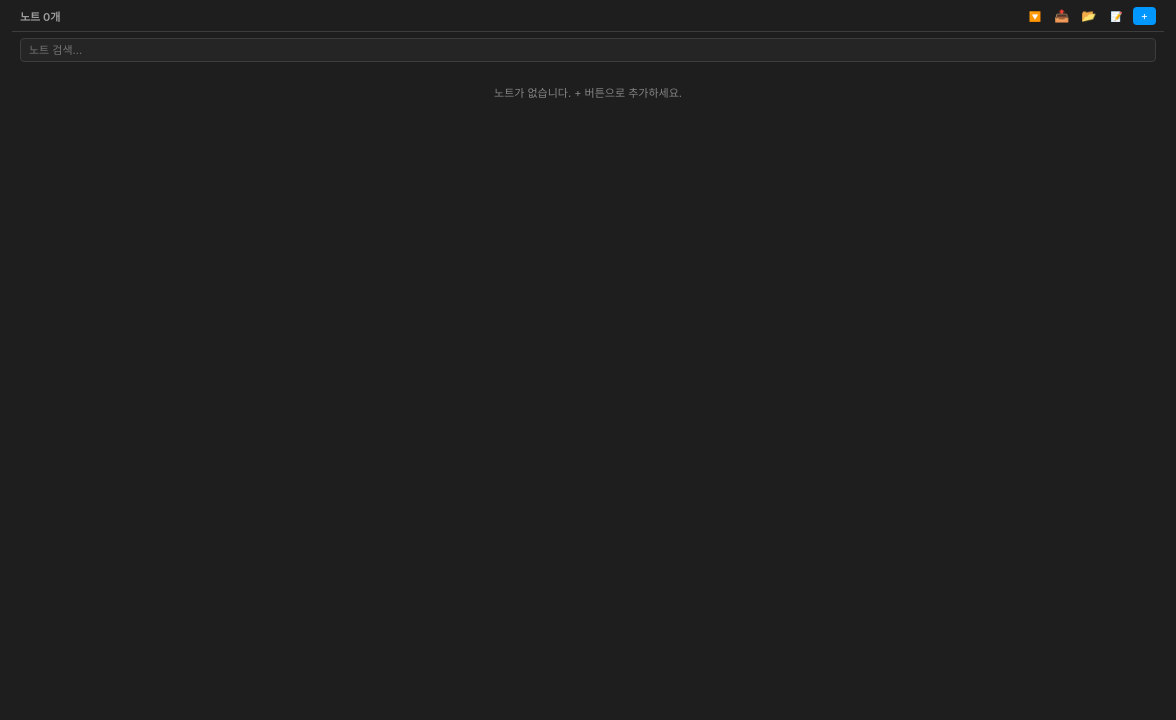
Test: NotesPanel › 에디터에서 목록으로 돌아오면 노트가 표시된다
Click the button titled "새 노트".
click(1144, 16)  # box x1=1133 y1=6 x2=1156 y2=24
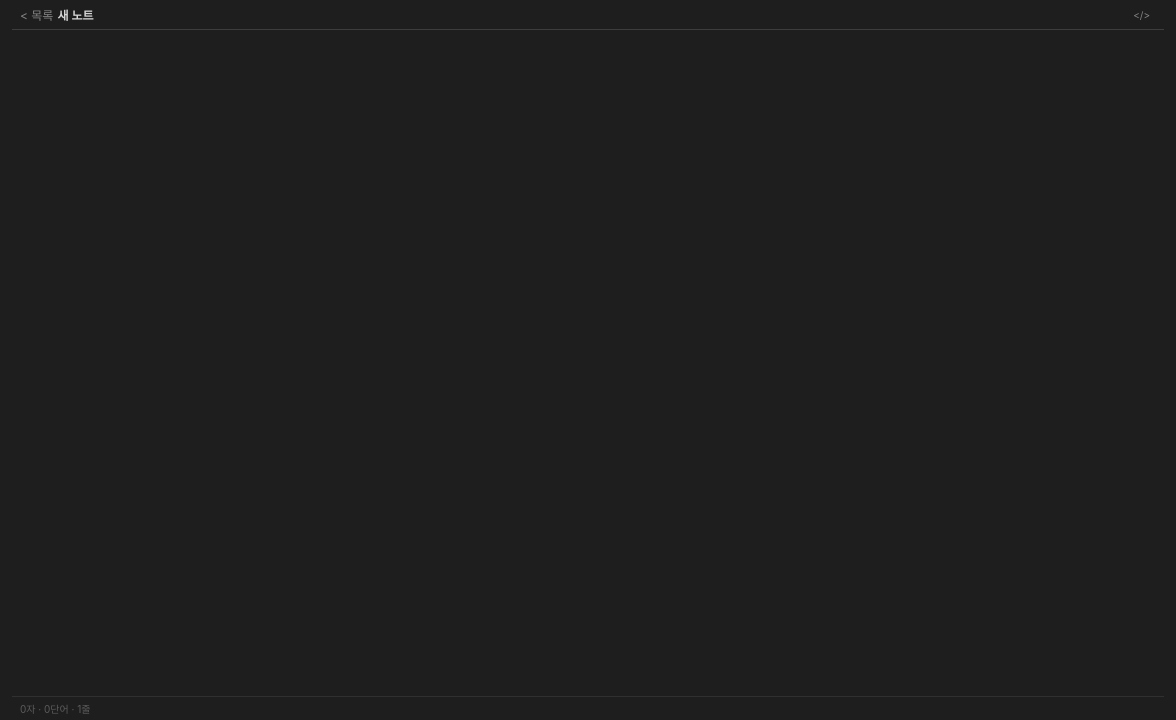
Replace the text in the field showing "새 노트" with "테스트 노트" at [590, 14], box x1=57 y1=7 x2=1123 y2=22
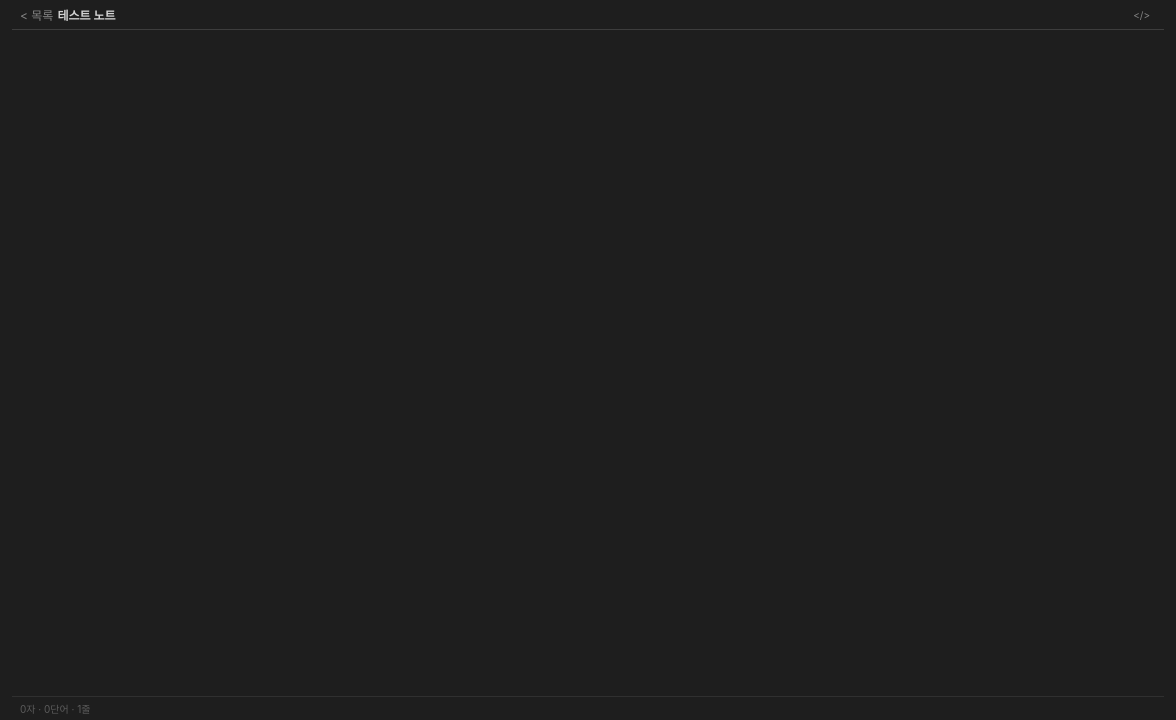
Click the button "< 목록".
click(37, 14)  # box x1=20 y1=6 x2=53 y2=23
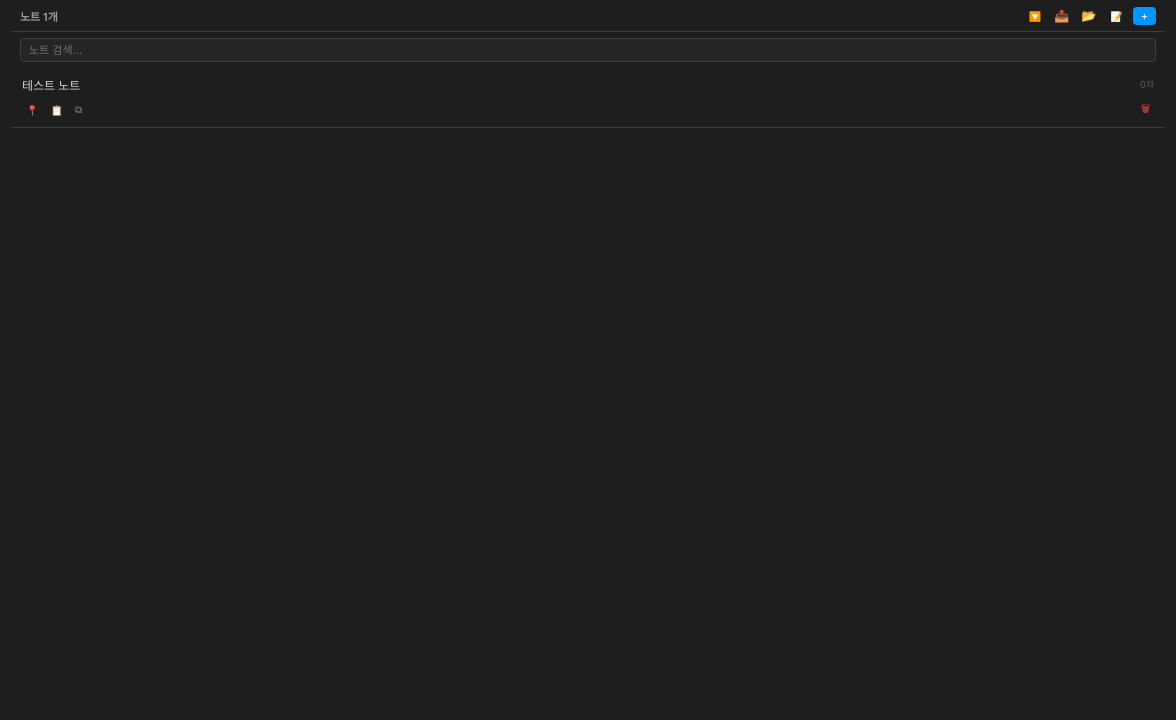
Expected: the text "테스트 노트" is shown, x1=22 y1=78 x2=80 y2=93
